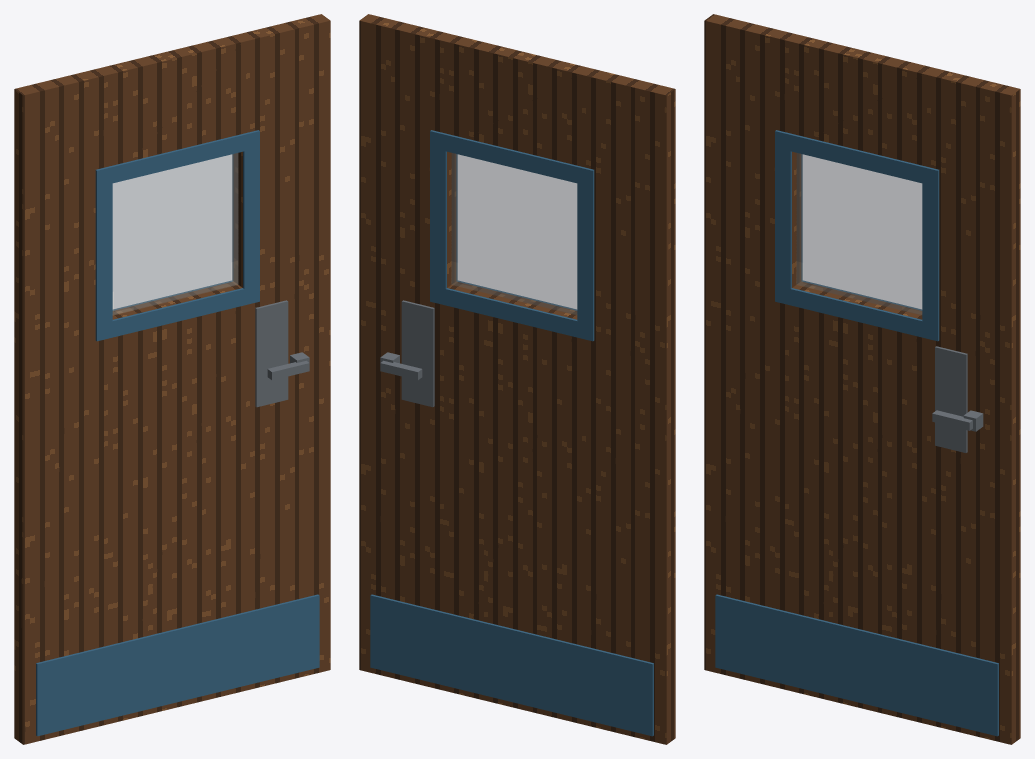
File: door_school.glb
3 views of the same model, side by side, from view 1: azimuth 30°, elevation 25°; view 2: azimuth 150°, elevation 25°; view 3: azimuth 330°, elevation 25° (orthographic).
Parts seen in each view (by area): view 1: door_school; view 2: door_school; view 3: door_school.
Part boxes in pixels (<box>): door_school: <box>14,14,330,744</box>; door_school: <box>359,14,675,744</box>; door_school: <box>704,14,1020,744</box>.
Size of the model in its own units: 0.98 by 1.98 by 0.165.
Materials: 4 (4 with a texture image).
